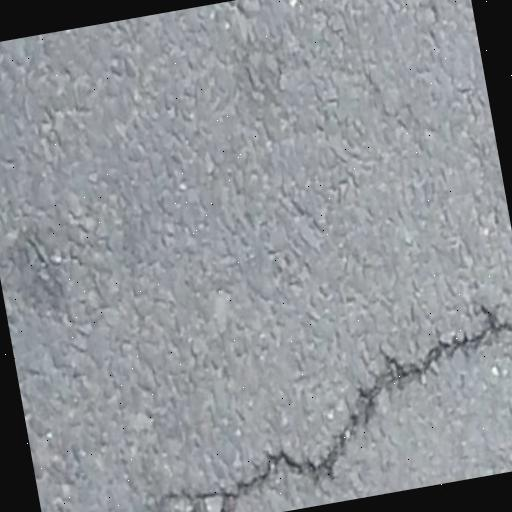spalling: (160, 307, 512, 512)
